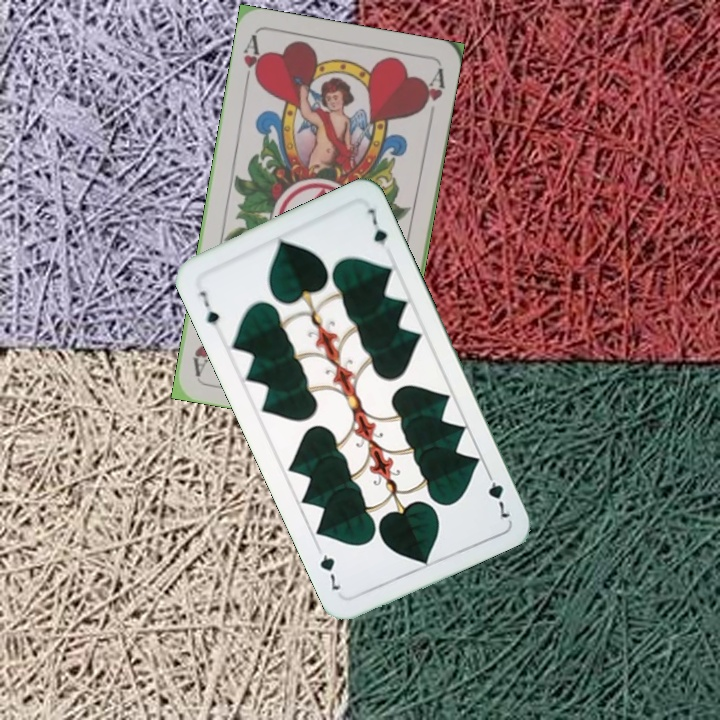G7: (482, 465, 513, 523), (195, 287, 222, 328)
HA: (239, 31, 266, 90)
